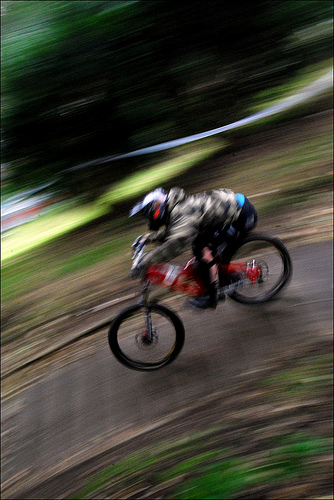helmet: (138, 186, 169, 224)
